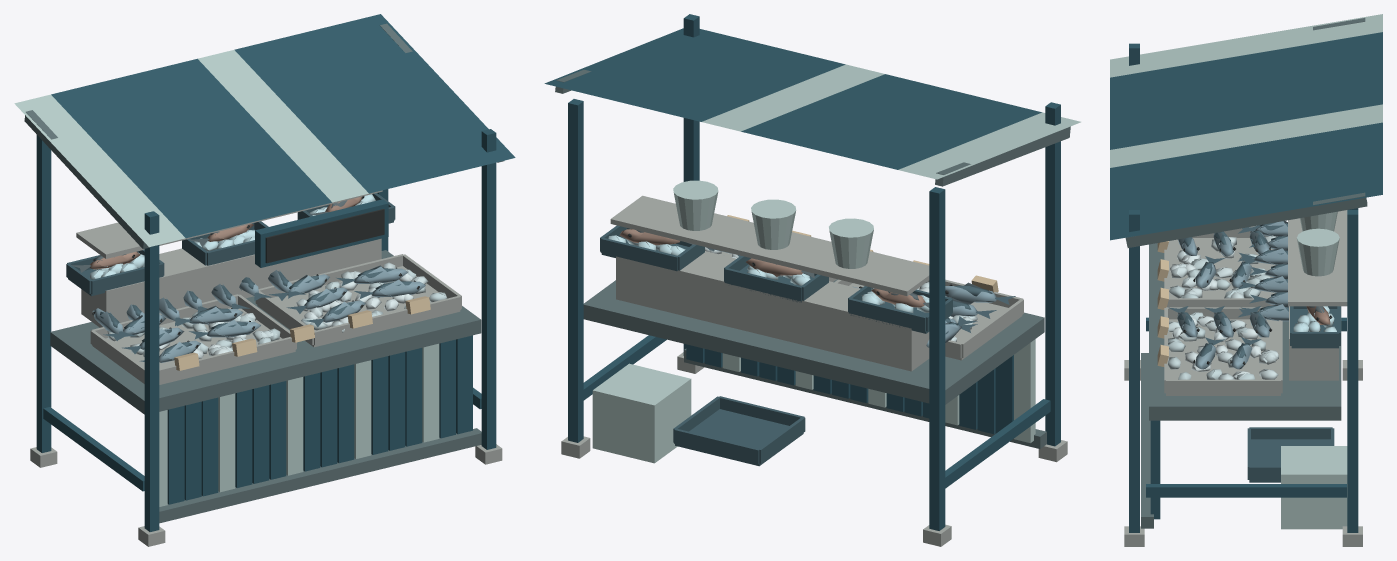
The model's file is fish-mid.glb.
3 renders of one model, left to right at view 1: azimuth 30°, elevation 25°; view 2: azimuth 150°, elevation 25°; view 3: azimuth 270°, elevation 25°, orthographic. The views are drawn at different scales.
Parts seen in each view (by area): view 1: Fish Market Stall; view 2: Fish Market Stall; view 3: Fish Market Stall.
Part boxes in pixels (box(x1,y1,x2,y2)): Fish Market Stall: box(14, 14, 515, 546); Fish Market Stall: box(544, 14, 1080, 546); Fish Market Stall: box(1110, 14, 1382, 546).
Size of the model in its own units: 2.98 by 2.73 by 1.9.
